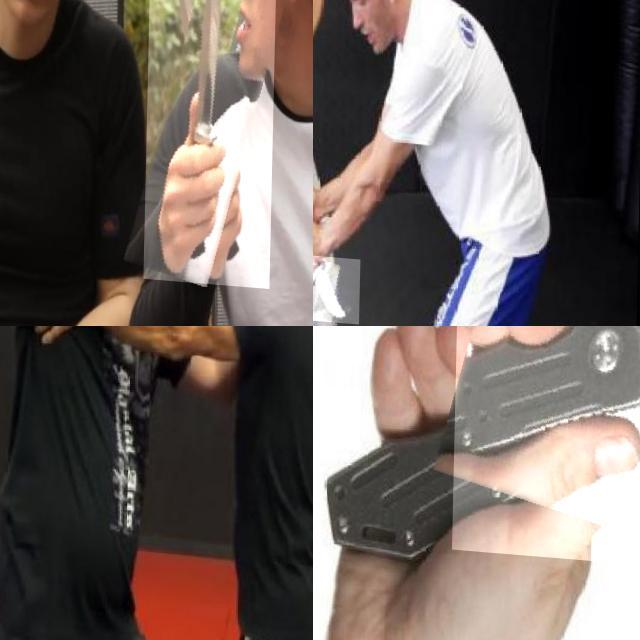-: (454, 326, 640, 575), (146, 0, 277, 282), (105, 326, 208, 371), (313, 248, 361, 318)
